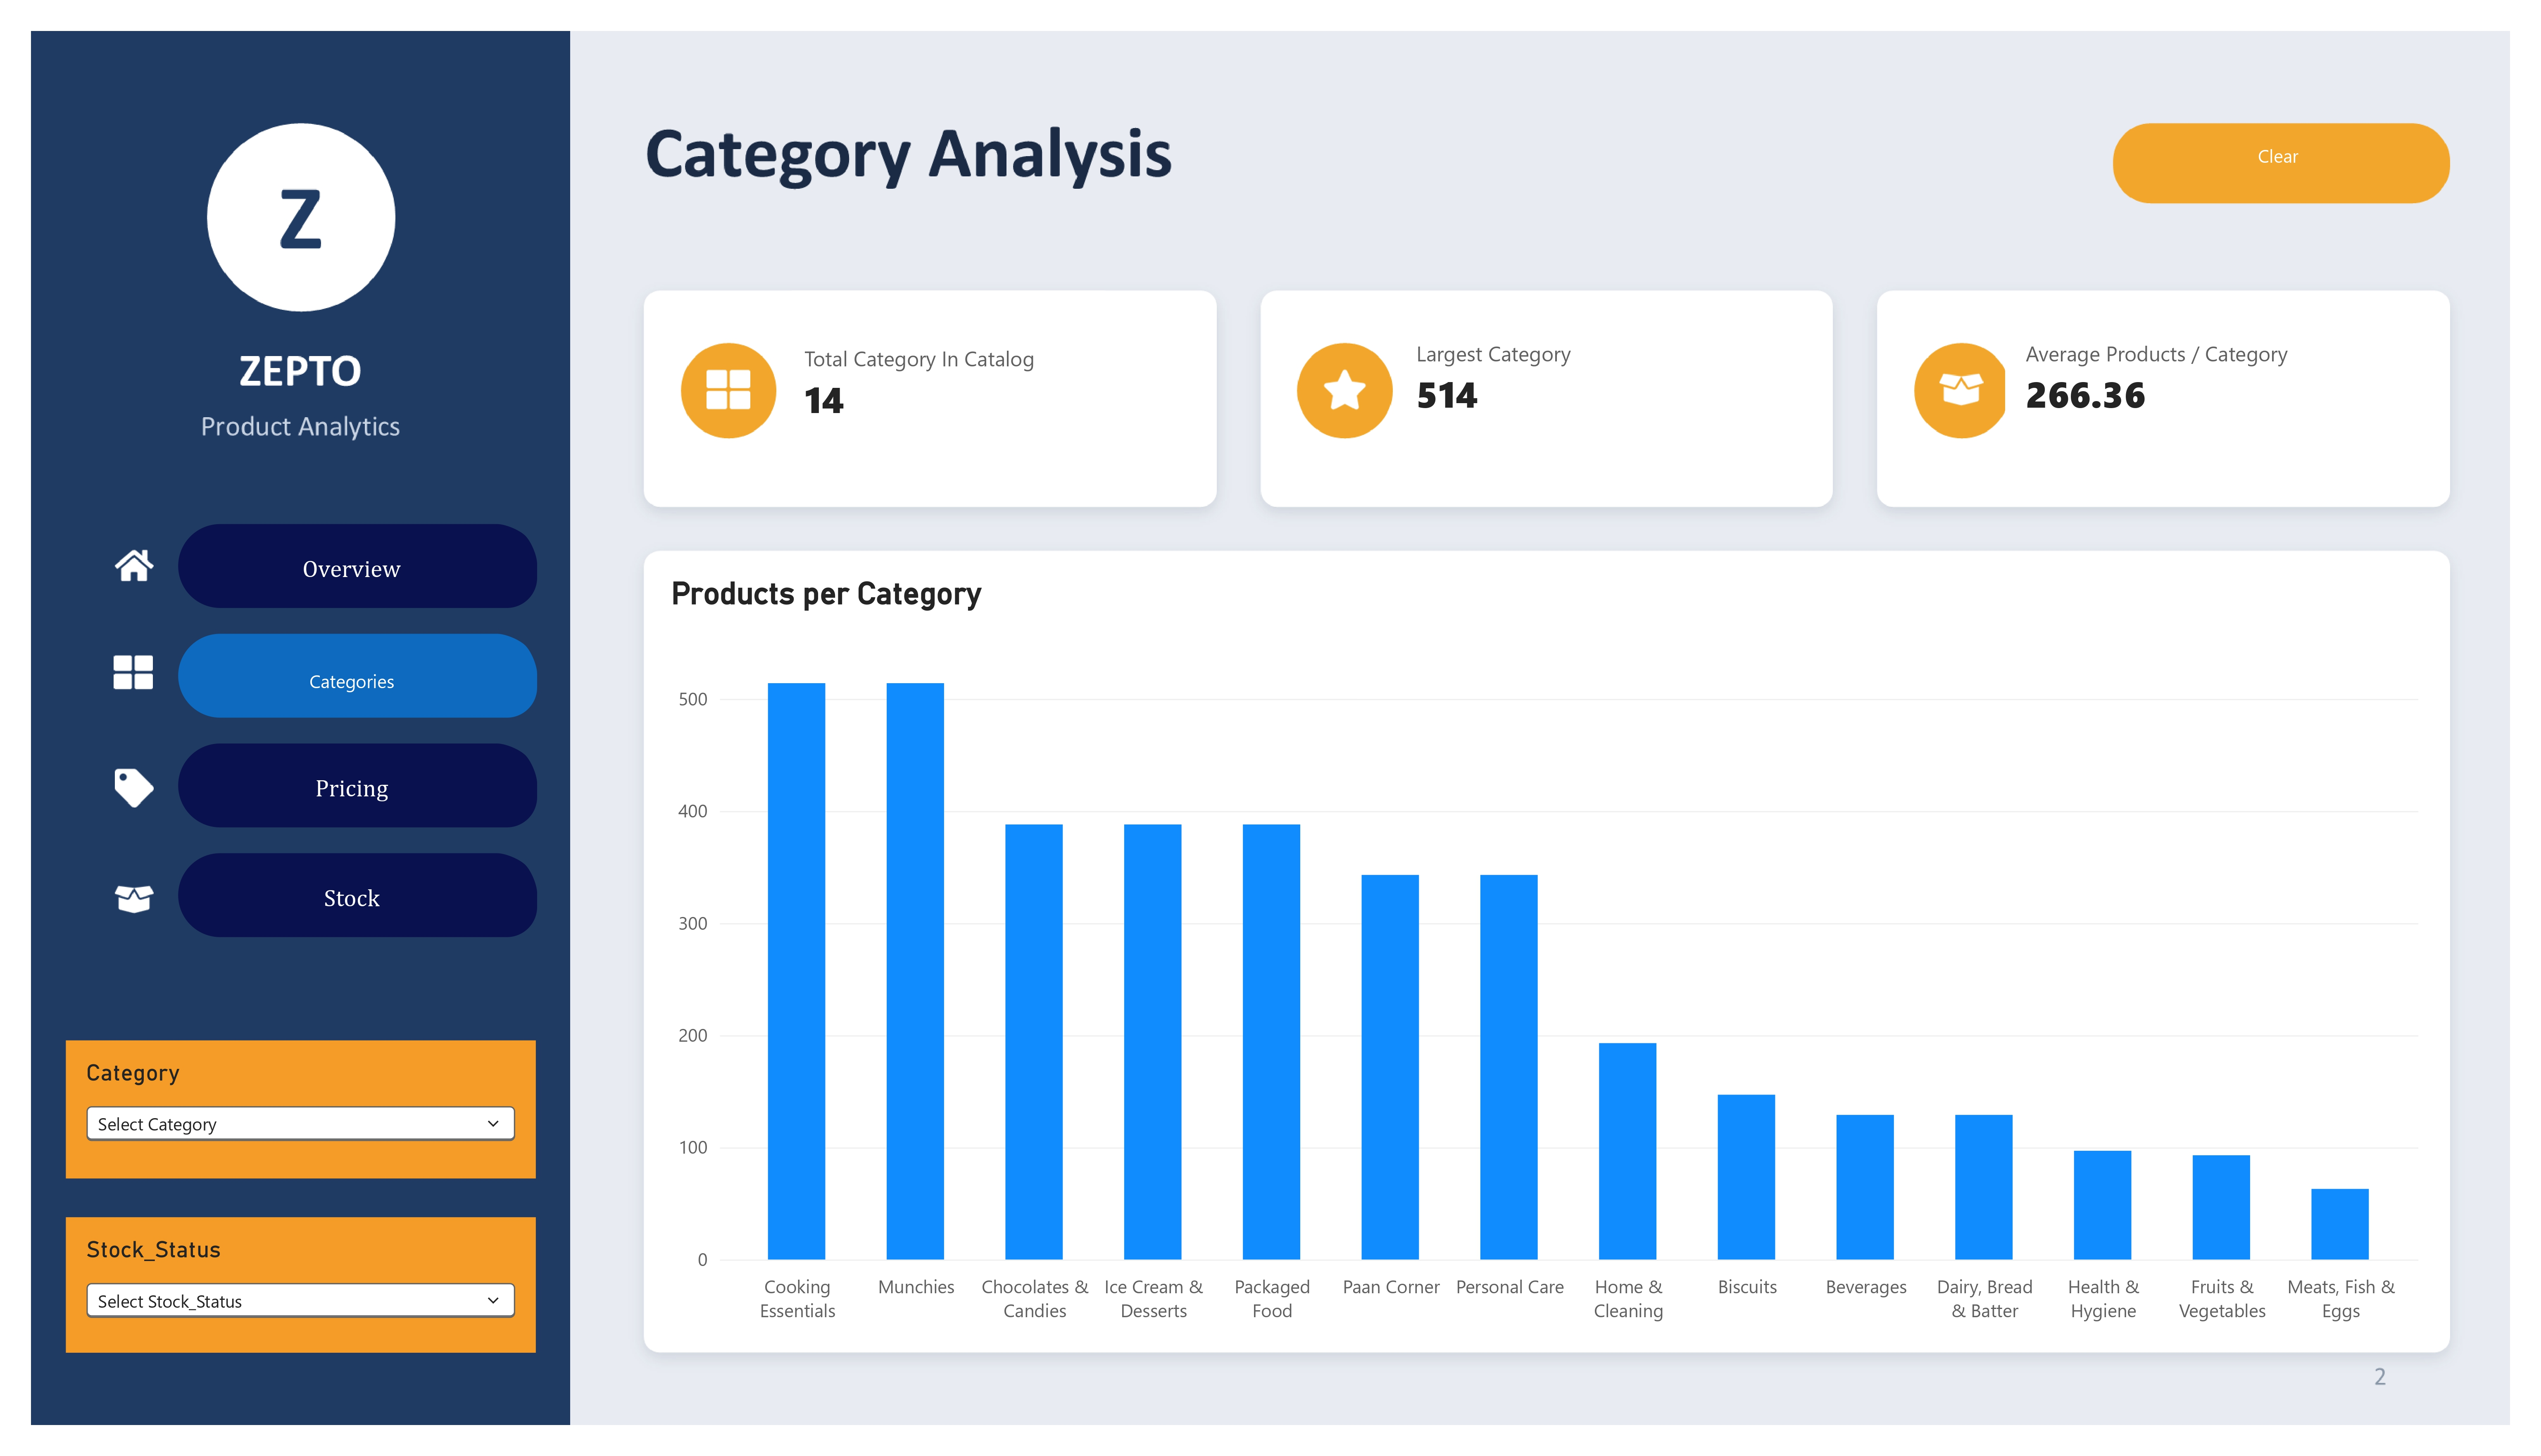

The dashboard page shown, as its layout file describes it:
{"tool":"powerbi","page":{"name":"Categories","canvas":[1920,1080],"ordinal":1},"visuals":[{"type":"cardVisual","fields":{"Data":["Count(zepto_cleaned.category)"]},"box":[582.7,200.9,200.9,144.8],"z":0},{"type":"cardVisual","fields":{"Data":["zepto_cleaned.Largest Category Value"]},"box":[1056.8,219,224.4,101.3],"z":1000},{"type":"cardVisual","fields":{"Data":["zepto_cleaned.Average Products per Category"]},"box":[1529.2,211.7,295,115.8],"z":2000},{"type":"textbox","box":[0,0,226,358],"z":3000},{"type":"textbox","box":[597.2,320.3,202.7,50.7],"z":4000},{"type":"textbox","box":[226,0,194,358],"z":5000},{"type":"textbox","box":[1073.1,320.3,307.6,50.7],"z":6000},{"type":"textbox","box":[1547.3,320.3,204.5,38],"z":7000},{"type":"columnChart","fields":{"Category":["zepto_cleaned.category"],"Y":["CountNonNull(zepto_cleaned.product_id)"]},"box":[494,454.2,1369.9,564.6],"z":8000},{"type":"actionButton","box":[1621.5,65.1,260.6,68.8],"z":9000},{"type":"pageNavigator","box":[114,382,278,322],"z":10000},{"type":"textbox","box":[508.5,414.4,1355.4,39.8],"z":12001},{"type":"listSlicer","fields":{"Values":["zepto_cleaned.category"]},"box":[27.1,781.8,363.7,106.8],"z":12002},{"type":"listSlicer","fields":{"Values":["zepto_cleaned.stock_status"]},"box":[27.1,919.3,363.7,105],"z":12003}]}

Visuals, with their boxes on the page's 1920x1080 design canvas (x1, y1, x2, y2). These are canvas units, not pixel positions in the 2541x1456 screenshot, which may show the page scaled, cropped or inside an application window:
cardVisual - Count(zepto_cleaned.category): BBox(583, 201, 784, 346)
cardVisual - zepto_cleaned.Largest Category Value: BBox(1057, 219, 1281, 320)
cardVisual - zepto_cleaned.Average Products per Category: BBox(1529, 212, 1824, 328)
textbox: BBox(0, 0, 226, 358)
textbox: BBox(597, 320, 800, 371)
textbox: BBox(226, 0, 420, 358)
textbox: BBox(1073, 320, 1381, 371)
textbox: BBox(1547, 320, 1752, 358)
columnChart - zepto_cleaned.category x CountNonNull(zepto_cleaned.product_id): BBox(494, 454, 1864, 1019)
actionButton: BBox(1622, 65, 1882, 134)
pageNavigator: BBox(114, 382, 392, 704)
textbox: BBox(508, 414, 1864, 454)
listSlicer - zepto_cleaned.category: BBox(27, 782, 391, 889)
listSlicer - zepto_cleaned.stock_status: BBox(27, 919, 391, 1024)
